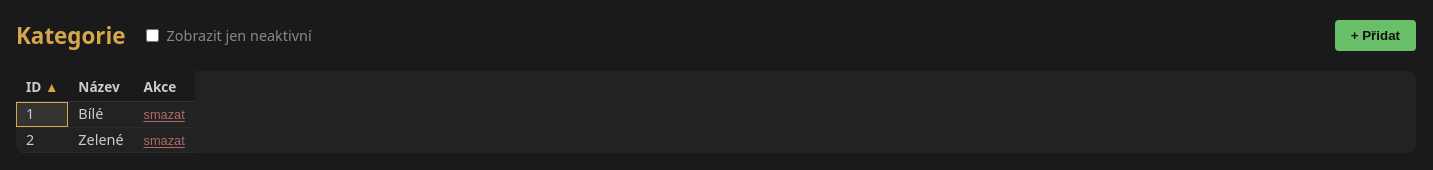
Scenario: Categories › 409 při mazání zobrazí chybu
Expected: the text "Bílé" is shown, [68,102,134,127]
Click the button "smazat" next to "Bílé" at (164, 114), box [144,107,185,122]
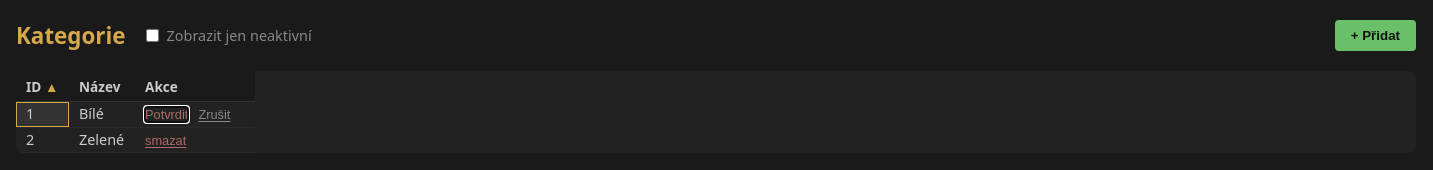
Click the button "Potvrdit" at (167, 114), box [145,107,188,122]
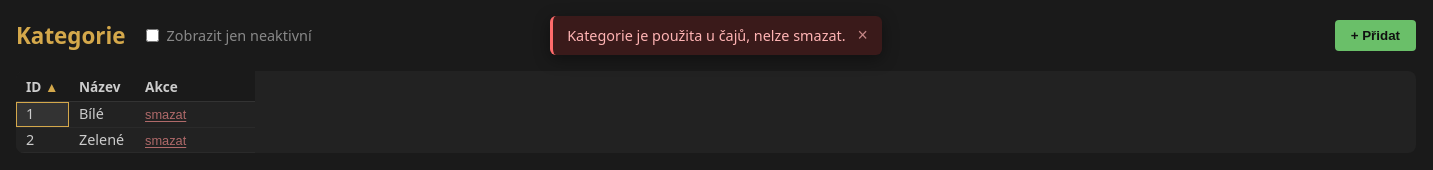
Expected: the text "Kategorie je použita u čajů, nelze smazat." is shown, [567,26,846,45]
